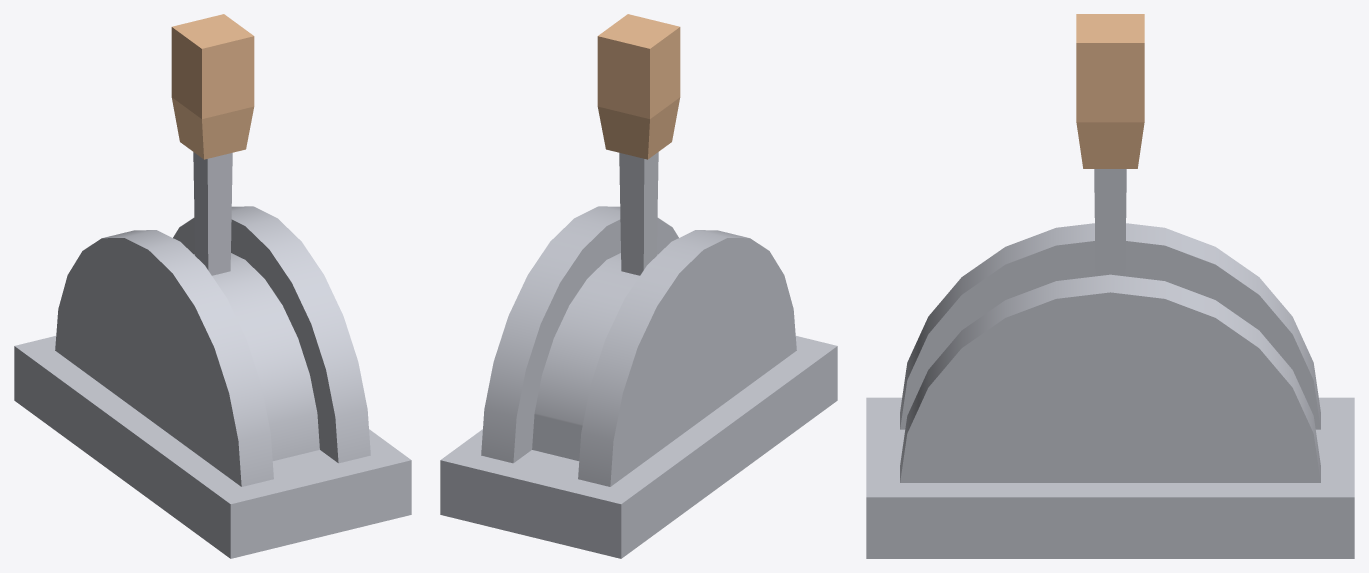
Rendered from lever.glb.
The picture shows the model from 3 angles, left to right: view 1: azimuth 30°, elevation 25°; view 2: azimuth 150°, elevation 25°; view 3: azimuth 270°, elevation 25°; orthographic projection. The views are drawn at different scales.
Parts seen in each view (by area): view 1: Mesh lever, handle; view 2: Mesh lever, handle; view 3: Mesh lever, handle.
Boxes of the visible parts, left/top/right/bottom form: Mesh lever: left=14, top=206, right=411, bottom=558; handle: left=171, top=14, right=254, bottom=275; Mesh lever: left=440, top=206, right=837, bottom=558; handle: left=597, top=14, right=680, bottom=275; Mesh lever: left=866, top=223, right=1354, bottom=558; handle: left=1076, top=14, right=1144, bottom=276.
Bounding box in the file's own units: 0.28 × 0.6303 × 0.58.
